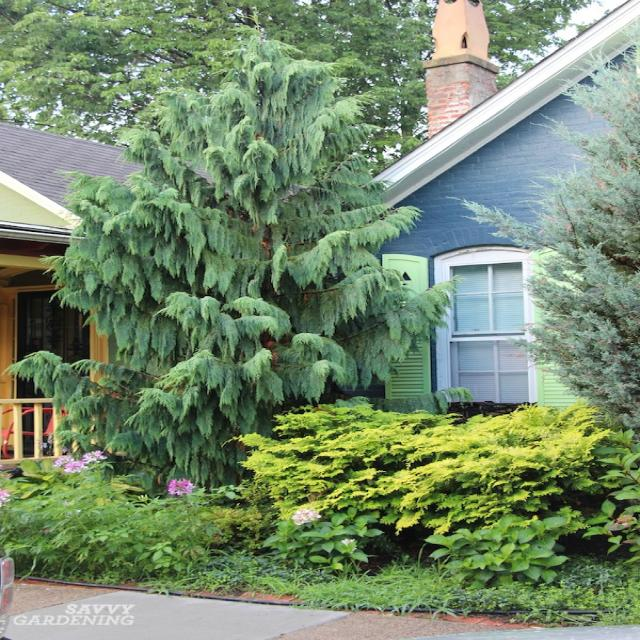Cupressus nootkatensis: (21, 42, 452, 476)
